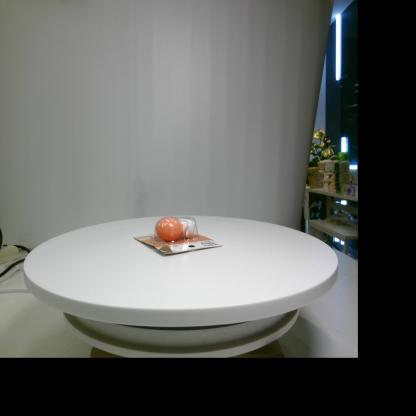Stationery: (134, 216, 222, 254)
